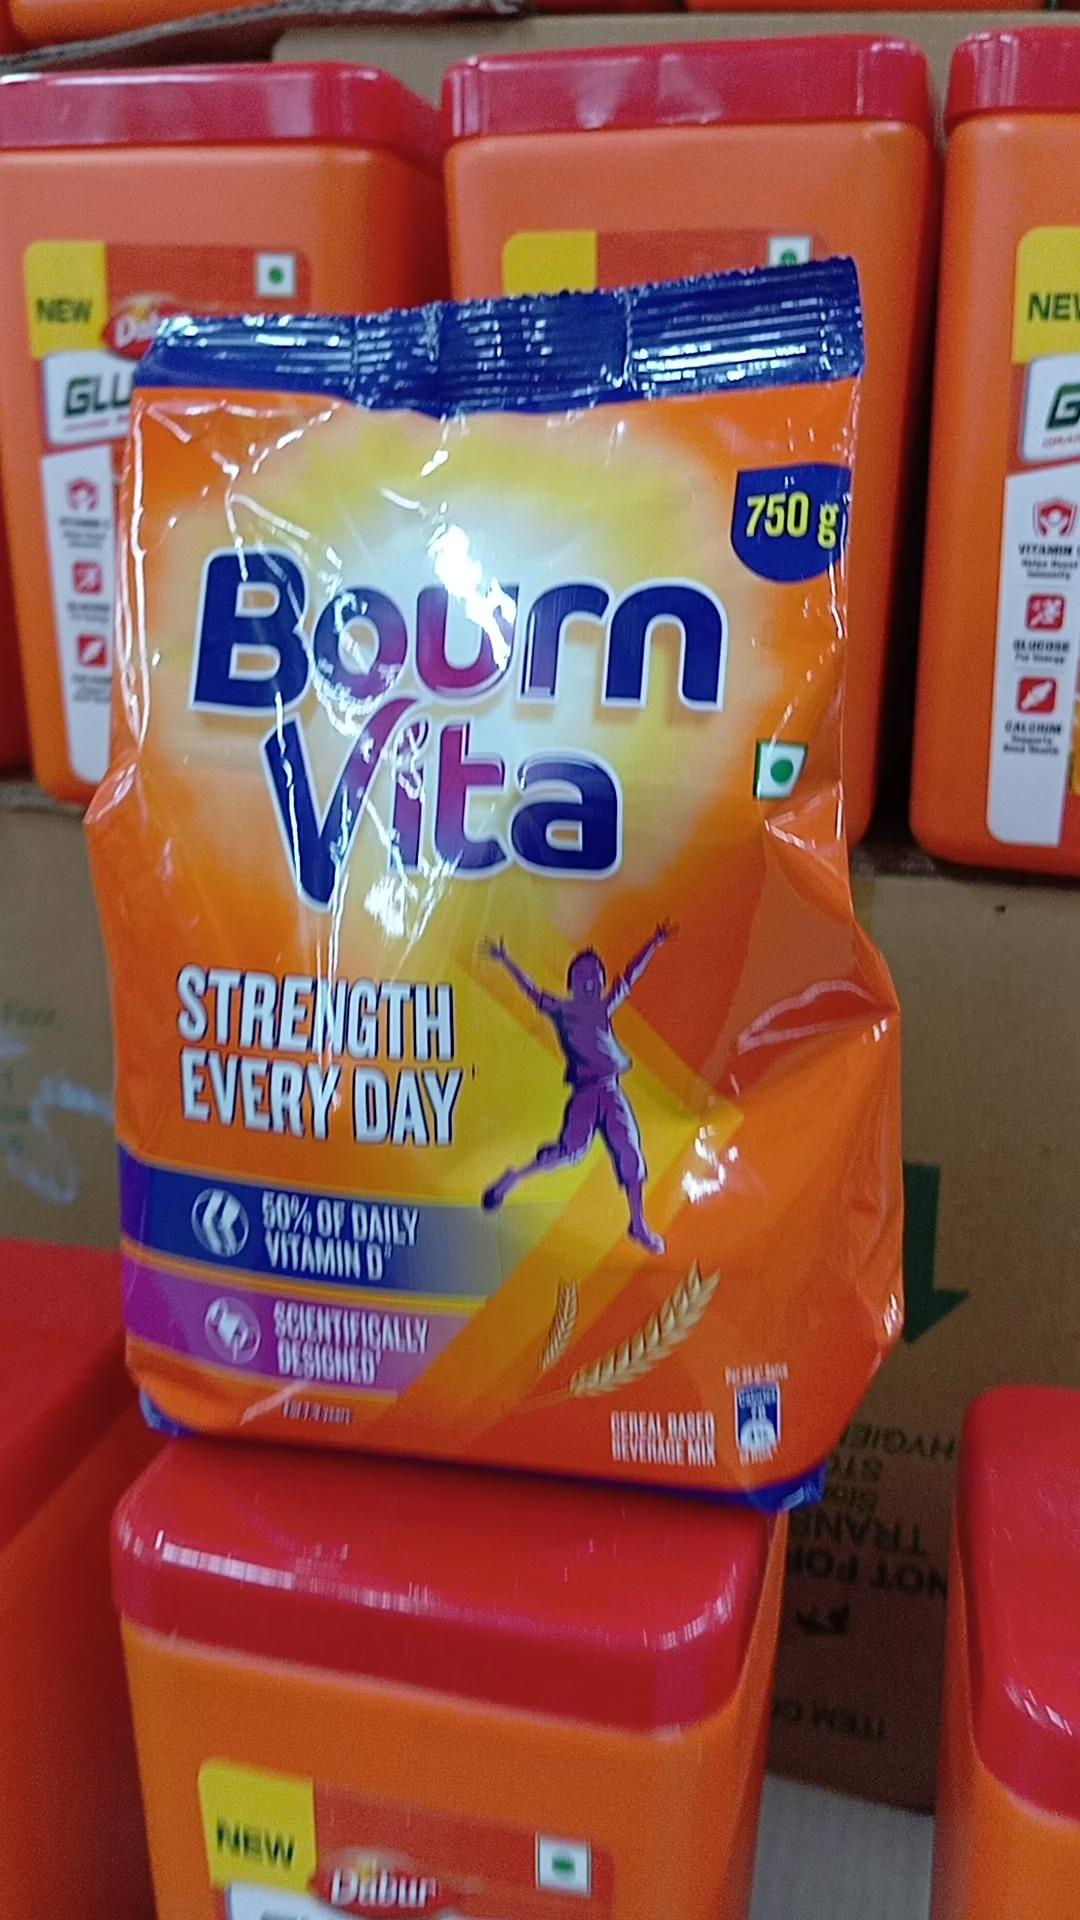BOURN_VITA_750_G_POUCH: (105, 280, 860, 1510)
